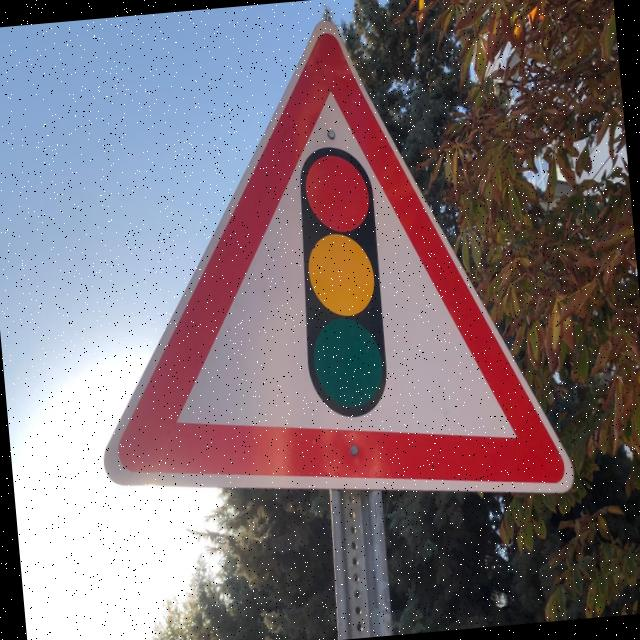light_traffic: (63, 0, 582, 509)
